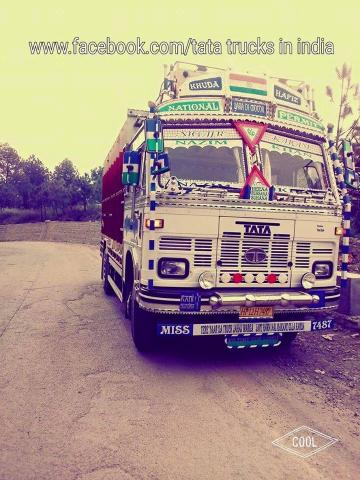truck: (88, 48, 353, 377)
